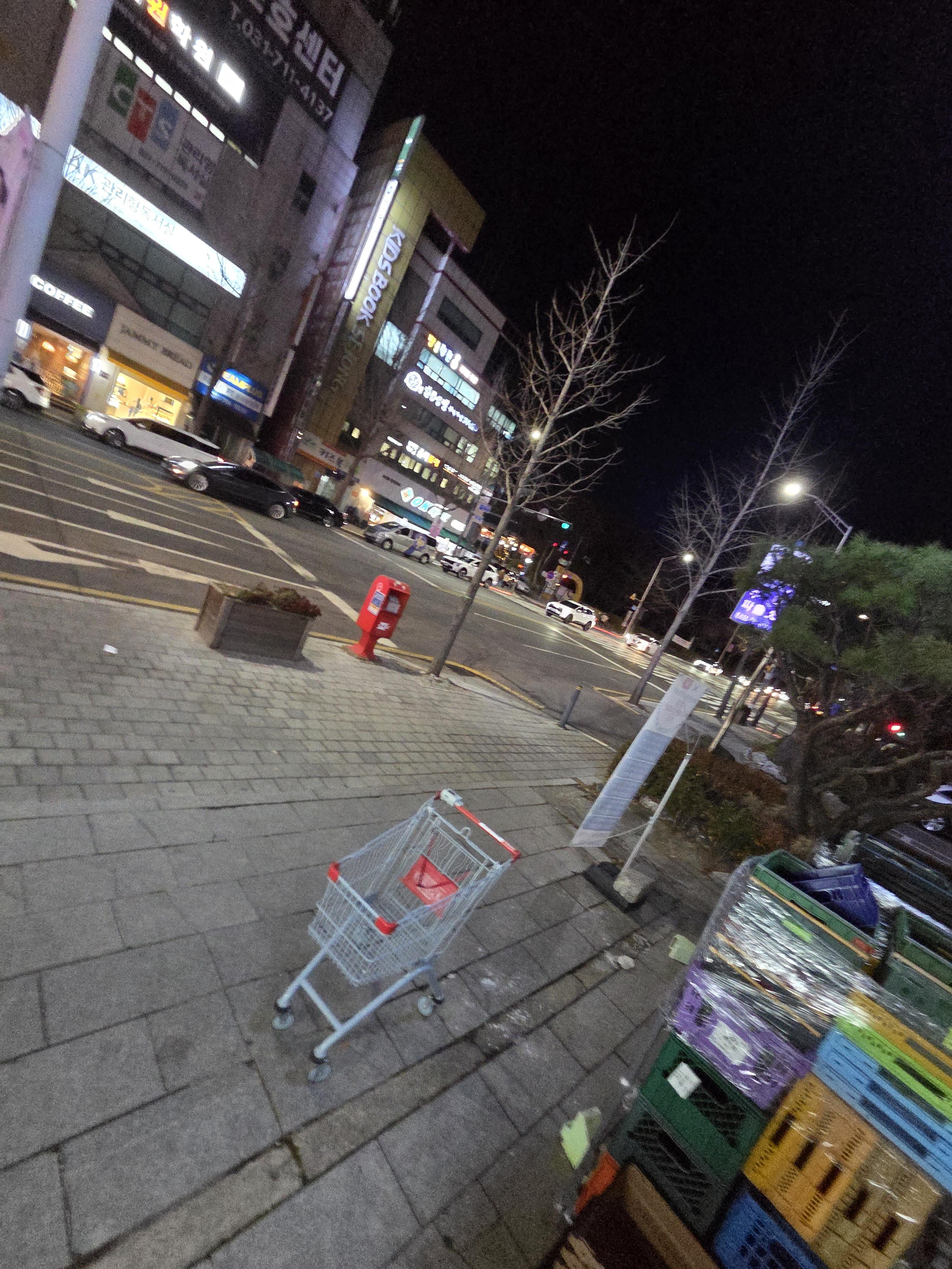empty_cart: (254, 761, 547, 1094)
